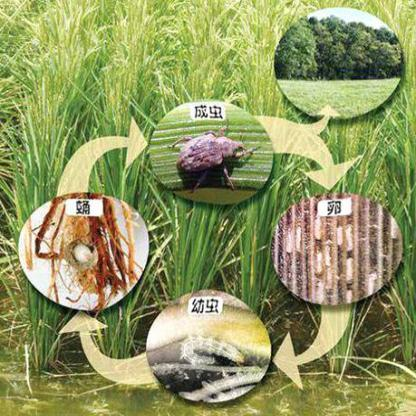rice-bug: (173, 124, 250, 192)
